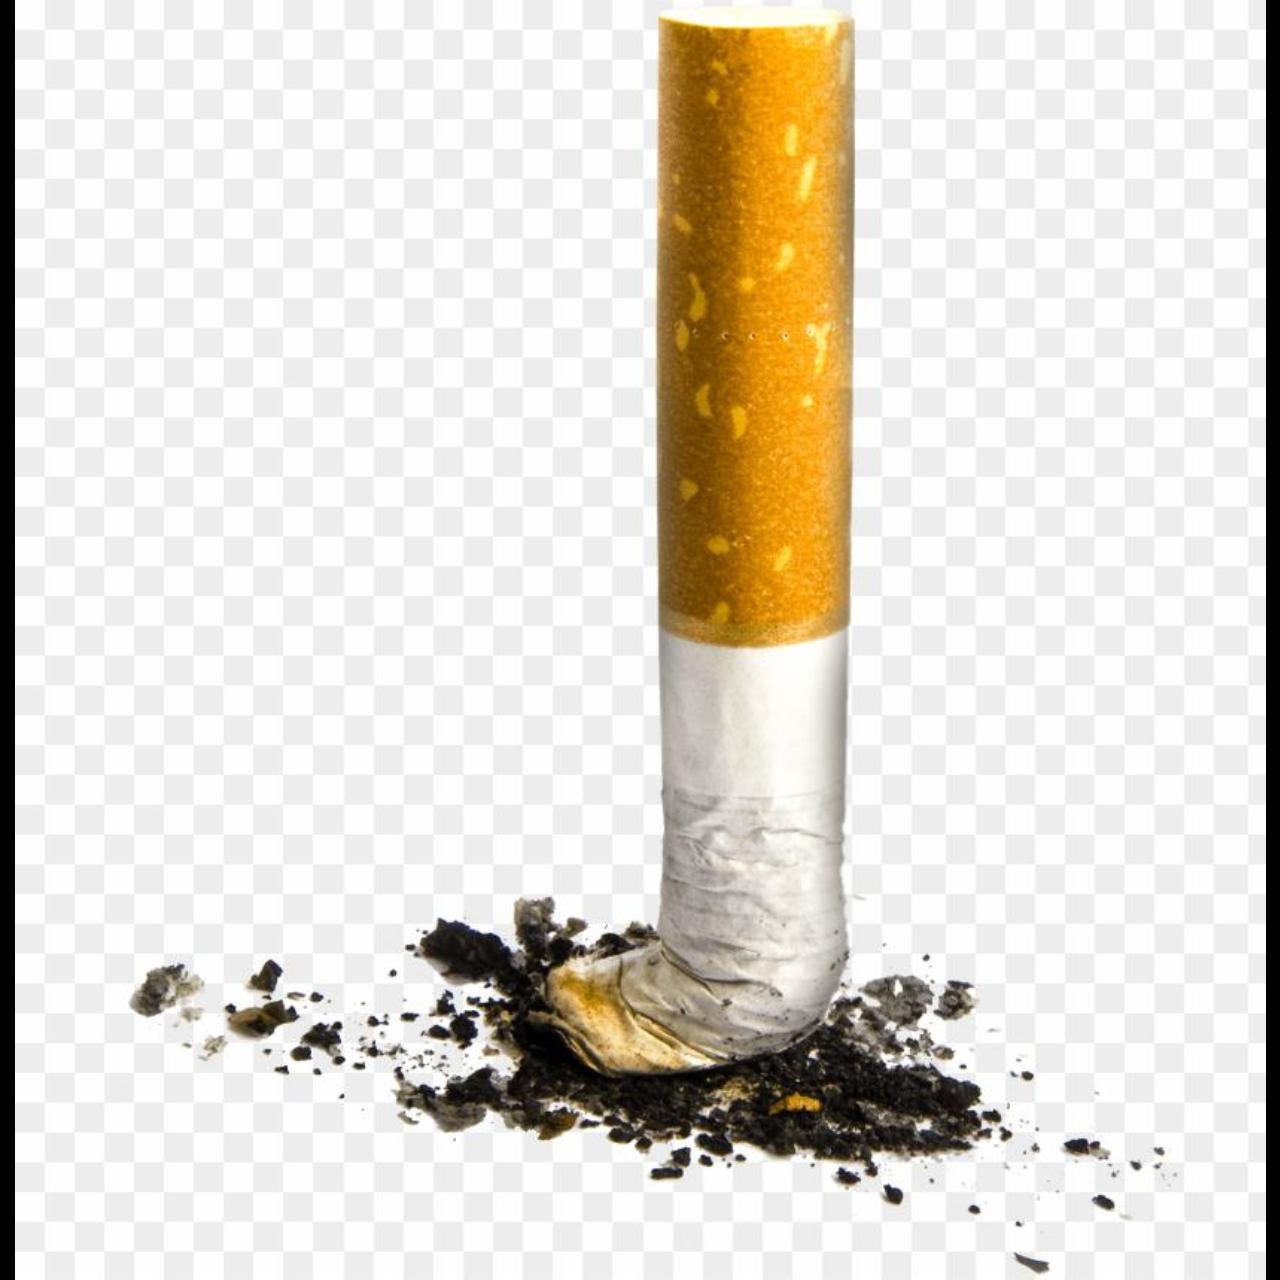cigarettes_butts: (547, 18, 853, 1079)
